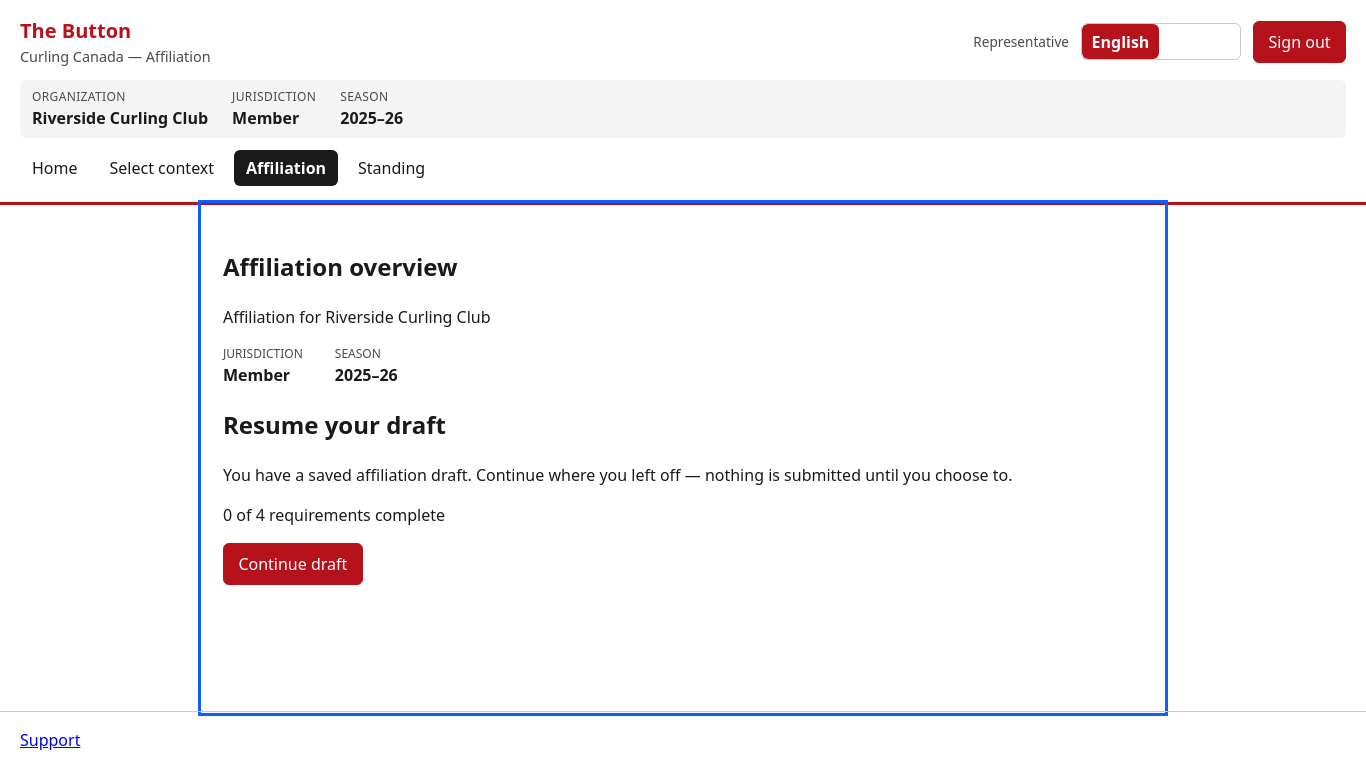
Test: Button affiliation requirements experience › resumes an existing draft from the overview
expect the heading "Resume your draft" is shown: met, box [223,408,446,441]
Click the button "Continue draft": coordinates (293, 564) [223,543,363,585]
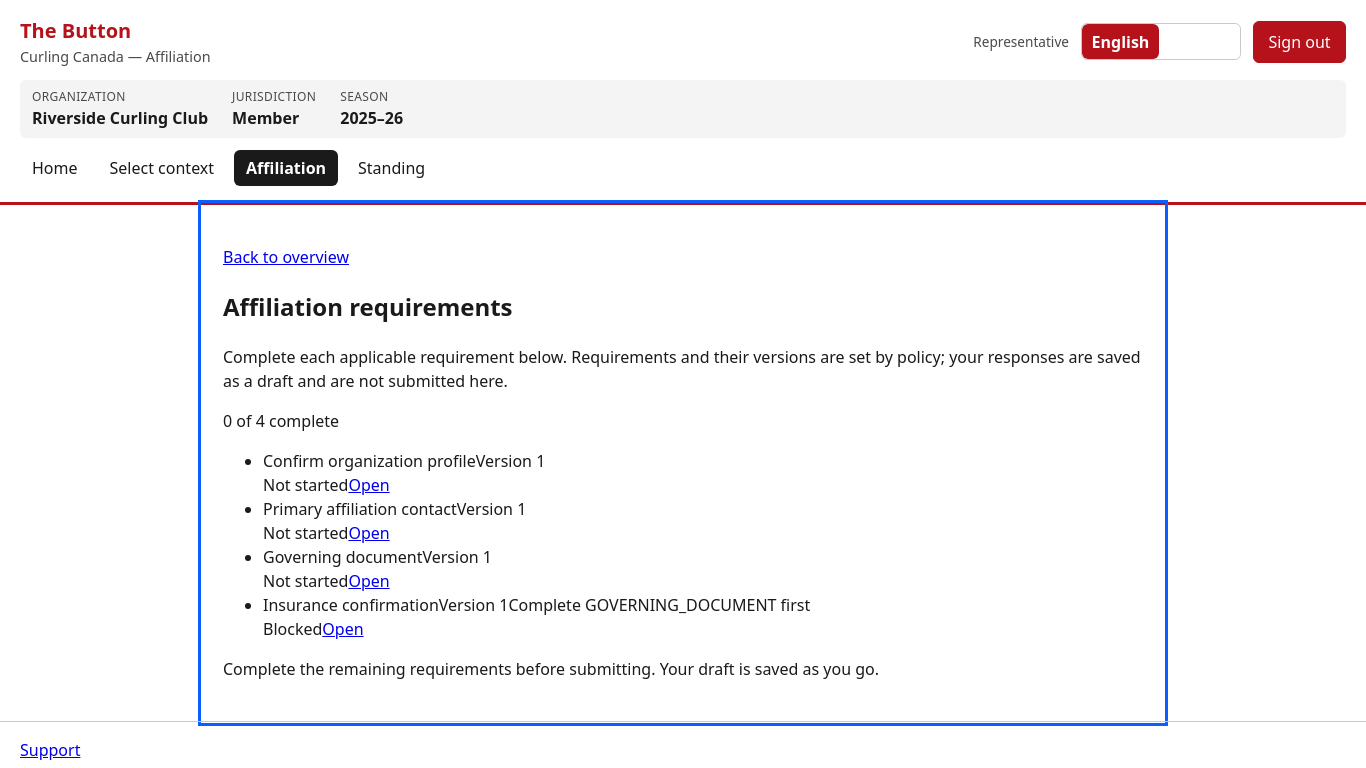
expect the heading "Affiliation requirements" is shown: met, box [223,290,512,323]
